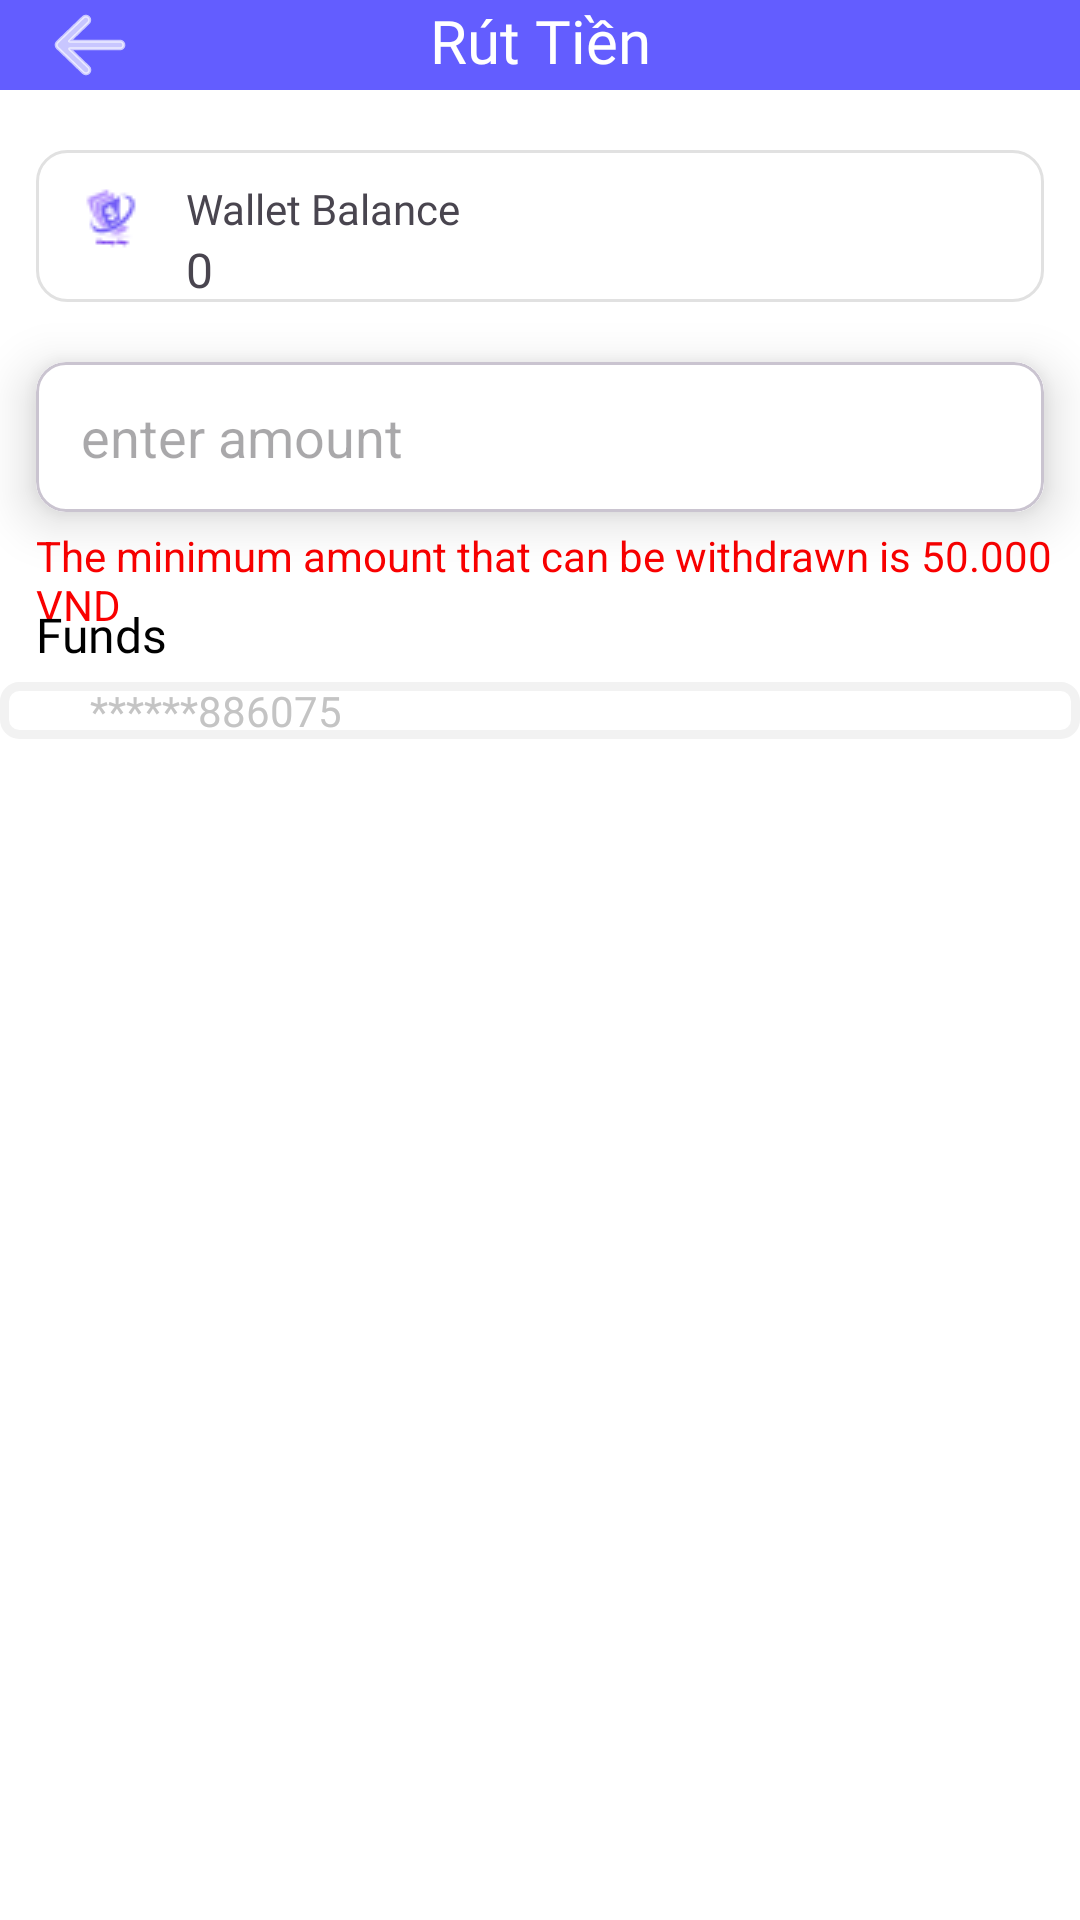

Where to tap for icons on this 1080*1920 app screen, as (x,y):
back: (90,45)
